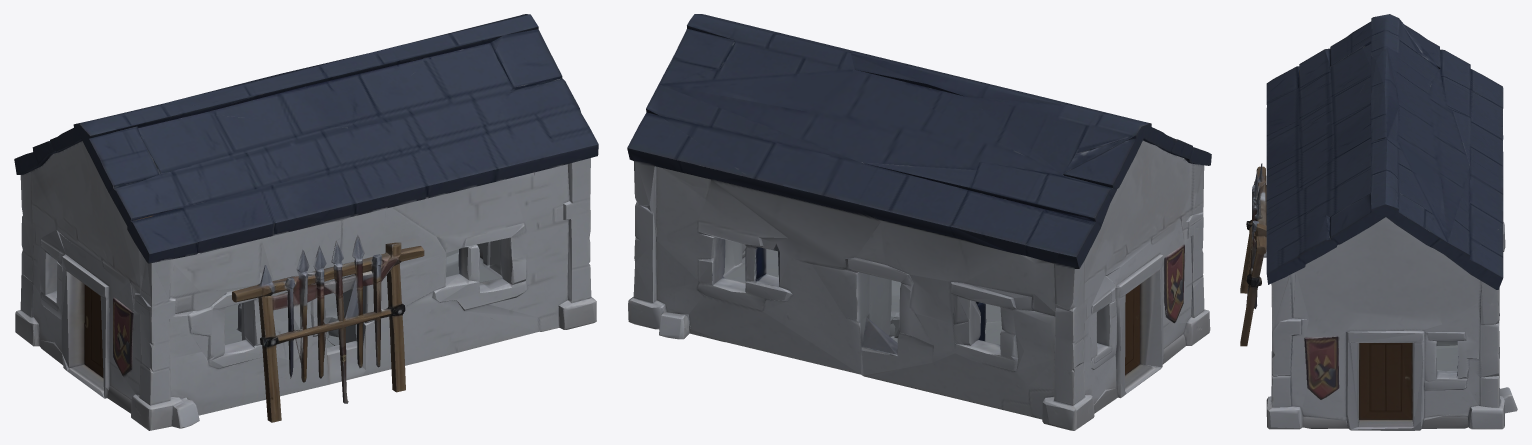
Rendered from barracks.glb.
3 renders of one model, left to right at view 1: azimuth 30°, elevation 25°; view 2: azimuth 150°, elevation 25°; view 3: azimuth 270°, elevation 25°, orthographic. The views are drawn at different scales.
Parts seen in each view (by area): view 1: barracks; view 2: barracks; view 3: barracks.
Part boxes in pixels (bbox=[...]): barracks: bbox=[14, 14, 598, 430]; barracks: bbox=[627, 14, 1211, 430]; barracks: bbox=[1240, 14, 1517, 430].
Size of the model in its own units: 11.45 by 6.5 by 7.01.
1 material, 1 textured.
